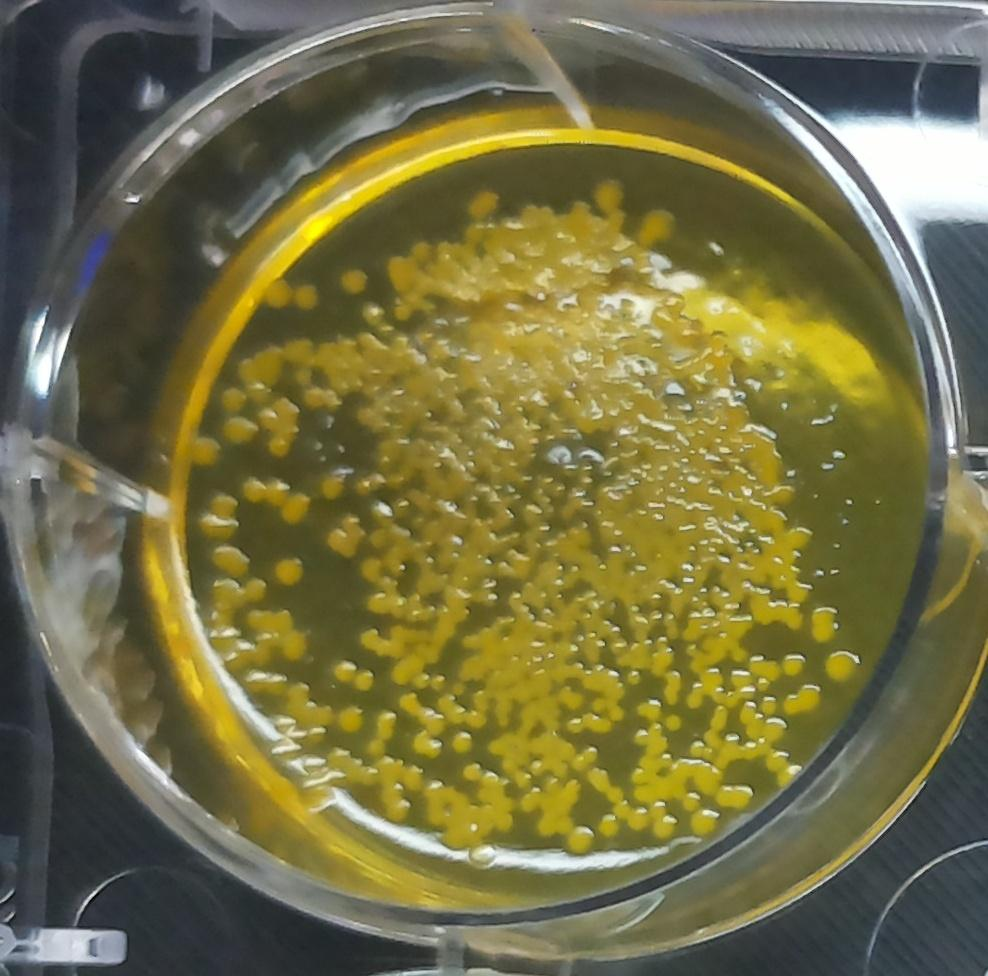vharveyi: (239, 469, 313, 529), (820, 644, 863, 689), (806, 597, 843, 645), (267, 551, 308, 593), (780, 649, 810, 682), (448, 726, 477, 757)
